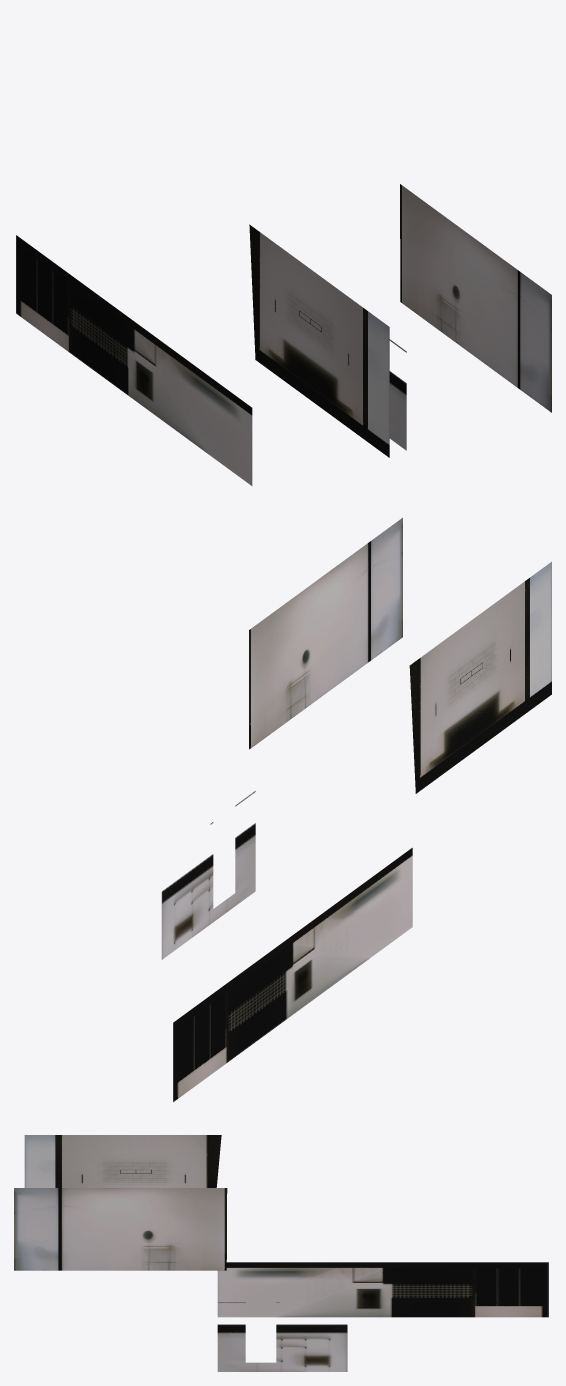
Rendered from wall 4.fbx.
3 renders of one model, top to bottom at view 1: azimuth 30°, elevation 25°; view 2: azimuth 150°, elevation 25°; view 3: azimuth 270°, elevation 25°, orthographic. The views are drawn at different scales.
Parts seen in each view (by area): view 1: polySurface3, polySurface4, polySurface1, polySurface2; view 2: polySurface3, polySurface4, polySurface1, polySurface2; view 3: polySurface3, polySurface1, polySurface4, polySurface2.
Part boxes in pixels (left/top/right/bottom): polySurface3: left=16, top=235, right=252, bottom=485; polySurface4: left=249, top=224, right=389, bottom=457; polySurface1: left=400, top=184, right=551, bottom=412; polySurface2: left=389, top=339, right=406, bottom=450; polySurface3: left=173, top=847, right=412, bottom=1102; polySurface4: left=409, top=561, right=551, bottom=793; polySurface1: left=249, top=517, right=402, bottom=749; polySurface2: left=161, top=791, right=255, bottom=959; polySurface3: left=217, top=1262, right=548, bottom=1317; polySurface1: left=14, top=1188, right=227, bottom=1270; polySurface4: left=24, top=1135, right=221, bottom=1187; polySurface2: left=217, top=1302, right=347, bottom=1371.
Bounding box in the file's own units: 8.95 × 14.51 × 38.45.
